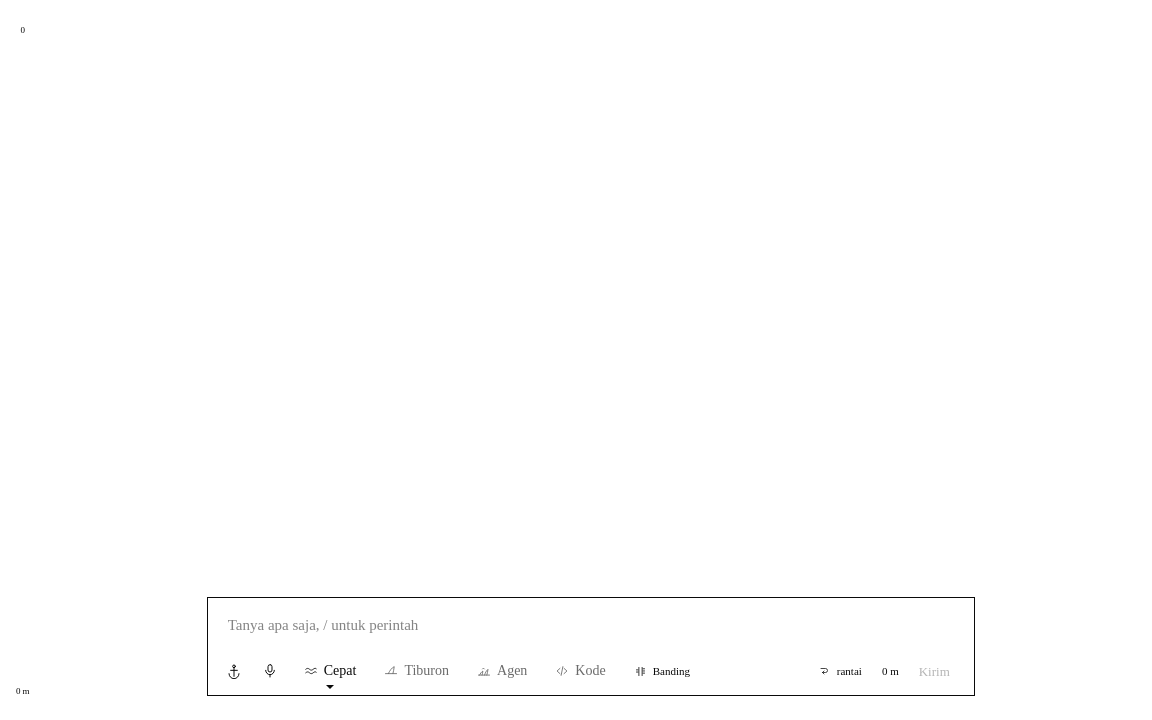
Test: penyimpanan yang gagal harus terlihat › PUT ditolak server → spanduk muncul dan menyebut akibatnya
The width and height of the screenshot is (1152, 720).
Step 1. Type "halo" into the text box → point(591, 625), box 216,606 -> 966,644
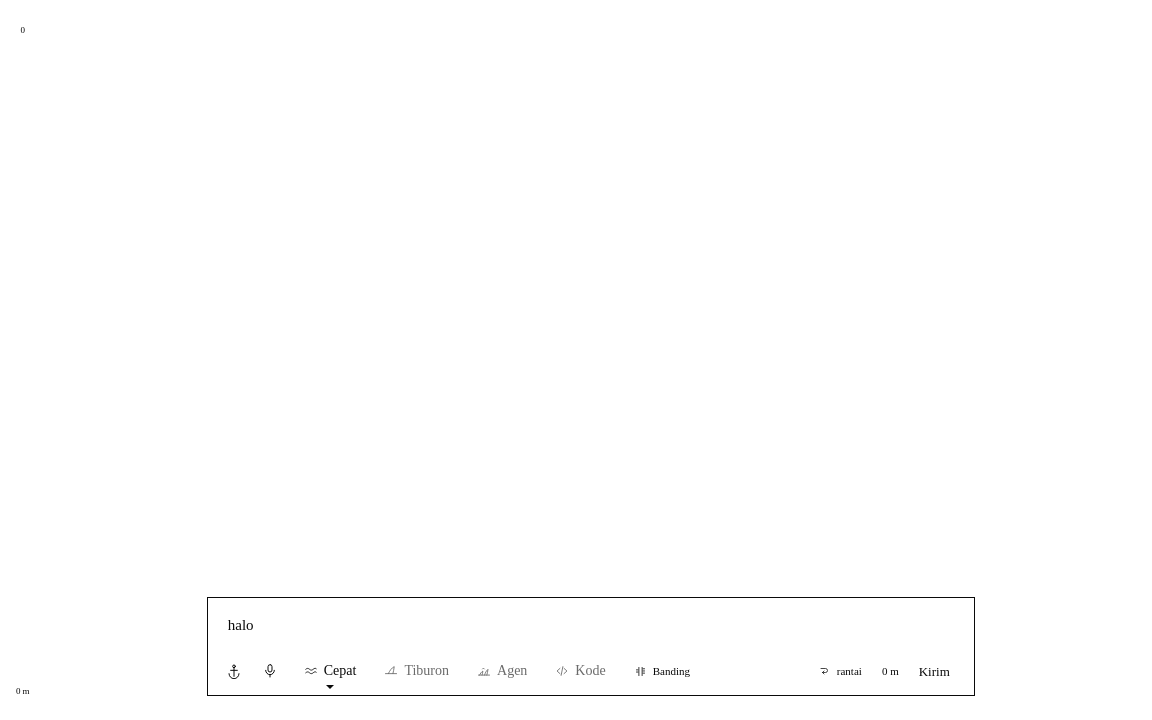
Step 2. Click the button with aria-label "kirim pesan" → point(934, 671), box 907,656 -> 962,687
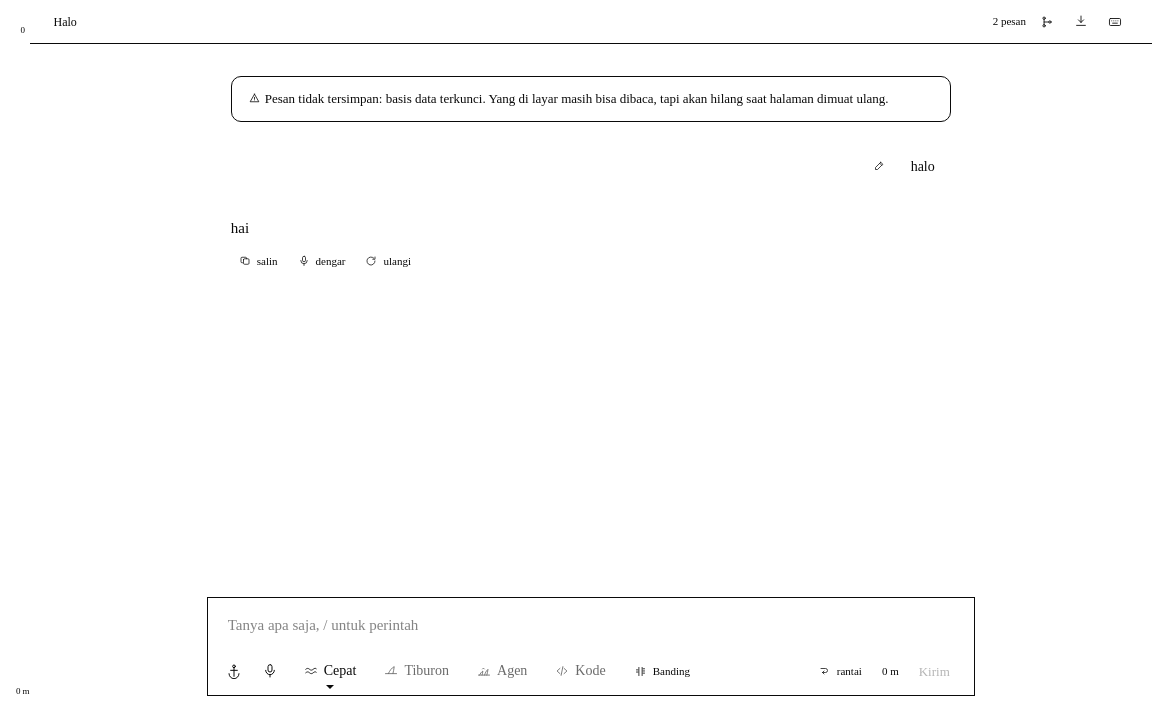
Result: the text "tidak tersimpan" shows "basis data terkunci" at 265,91 -> 889,106
Result: the text "tidak tersimpan" shows "dimuat ulang" at 265,91 -> 889,106
